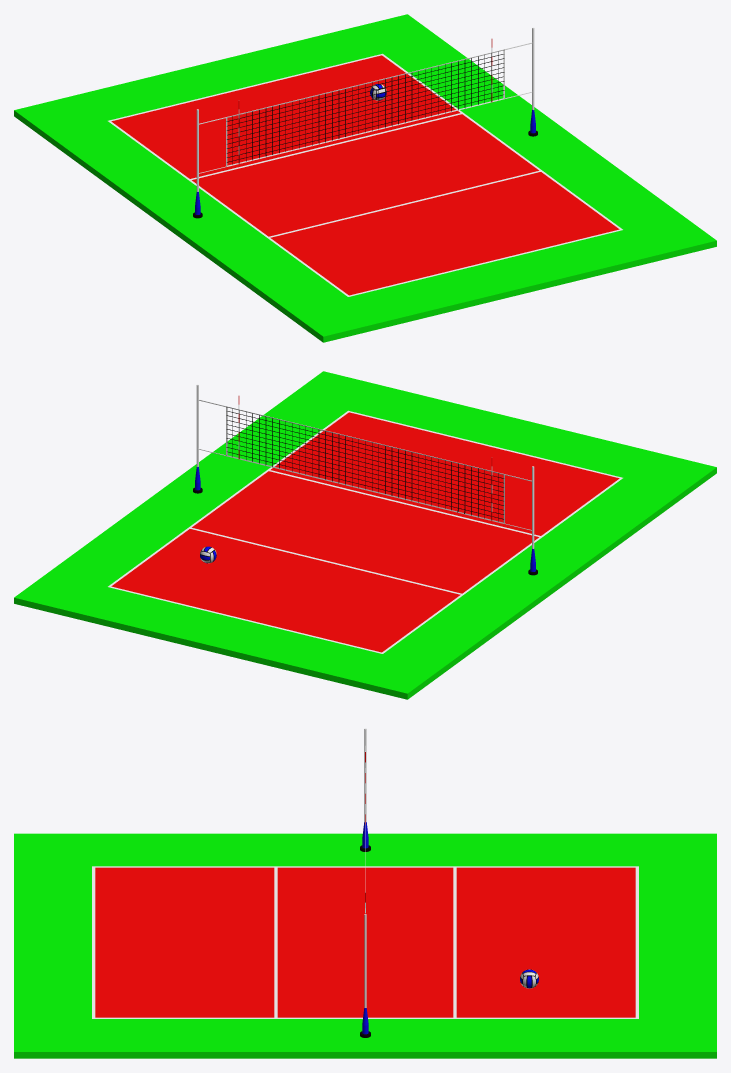
File: volleyball-court.fbx
3 views of the same model, one above another, from view 1: azimuth 30°, elevation 25°; view 2: azimuth 150°, elevation 25°; view 3: azimuth 270°, elevation 25° (orthographic). The views are drawn at different scales.
Parts seen in each view (by area): view 1: fllor, net, pole; view 2: fllor, net, pole; view 3: fllor, pole.
Part boxes in pixels (bbox=[...]): fllor: bbox=[14, 14, 716, 342]; net: bbox=[199, 42, 532, 173]; pole: bbox=[193, 27, 537, 218]; fllor: bbox=[14, 371, 716, 699]; net: bbox=[198, 399, 531, 530]; pole: bbox=[193, 384, 537, 575]; fllor: bbox=[14, 833, 716, 1058]; pole: bbox=[360, 728, 370, 1037].
Bounding box in the file's own units: 3394 × 928 × 4621.
